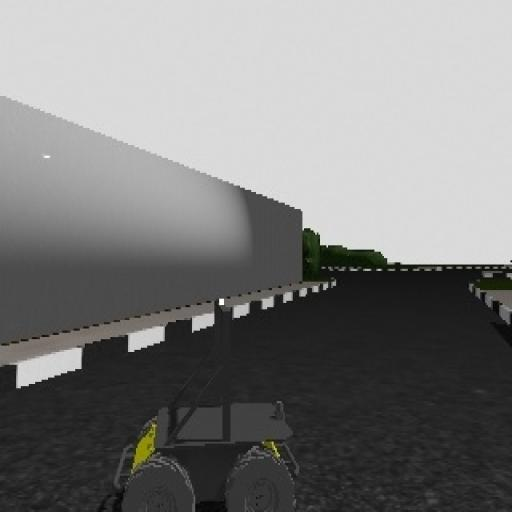huskya200: (110, 294, 305, 512)
